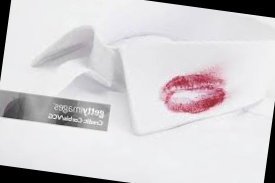lipstick: (160, 60, 233, 125)
